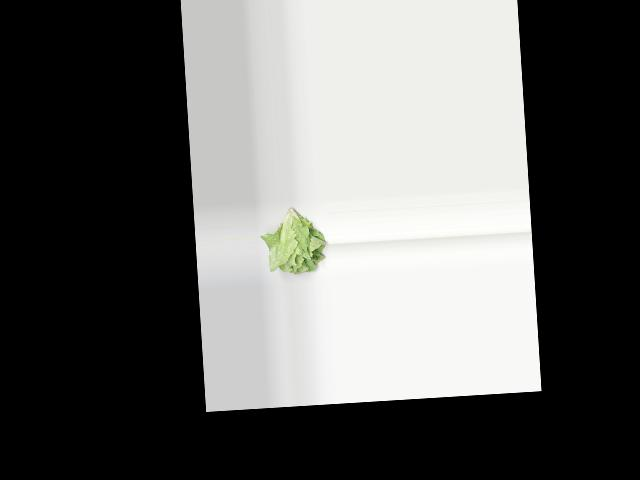lettuce: (259, 204, 328, 276)
